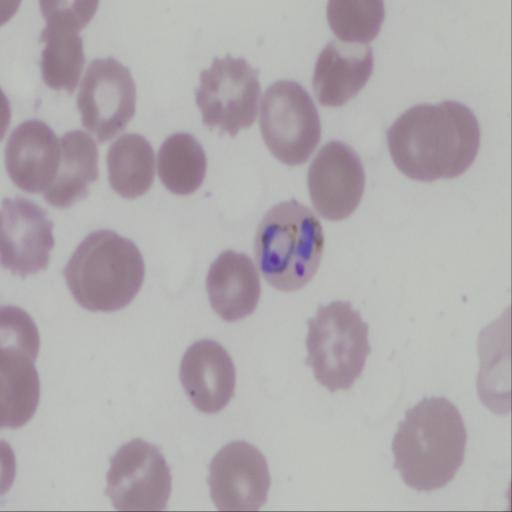Infected: (253, 200, 324, 294)
Uninfected: (384, 101, 480, 184), (68, 229, 147, 314), (393, 397, 464, 489), (307, 299, 371, 391), (259, 79, 321, 165), (79, 57, 137, 139), (198, 57, 263, 130), (106, 439, 170, 512), (311, 41, 375, 110), (209, 441, 271, 512), (0, 197, 56, 275), (310, 139, 364, 219), (48, 130, 101, 210), (179, 339, 236, 413), (206, 251, 261, 321), (8, 123, 61, 191), (40, 21, 87, 90), (109, 136, 156, 199), (160, 135, 206, 193)
